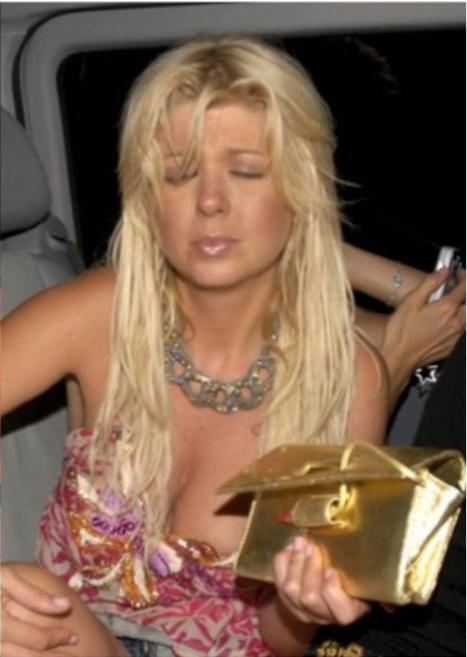Drunk: (148, 99, 284, 276)
